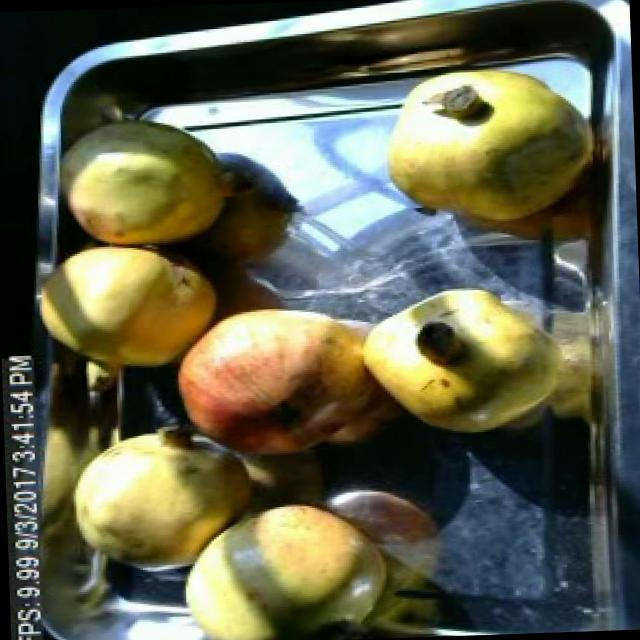fruit: (158, 282, 400, 478), (373, 54, 605, 238), (53, 408, 274, 589), (159, 485, 410, 640), (341, 274, 570, 442), (52, 92, 255, 251), (29, 237, 232, 390)
